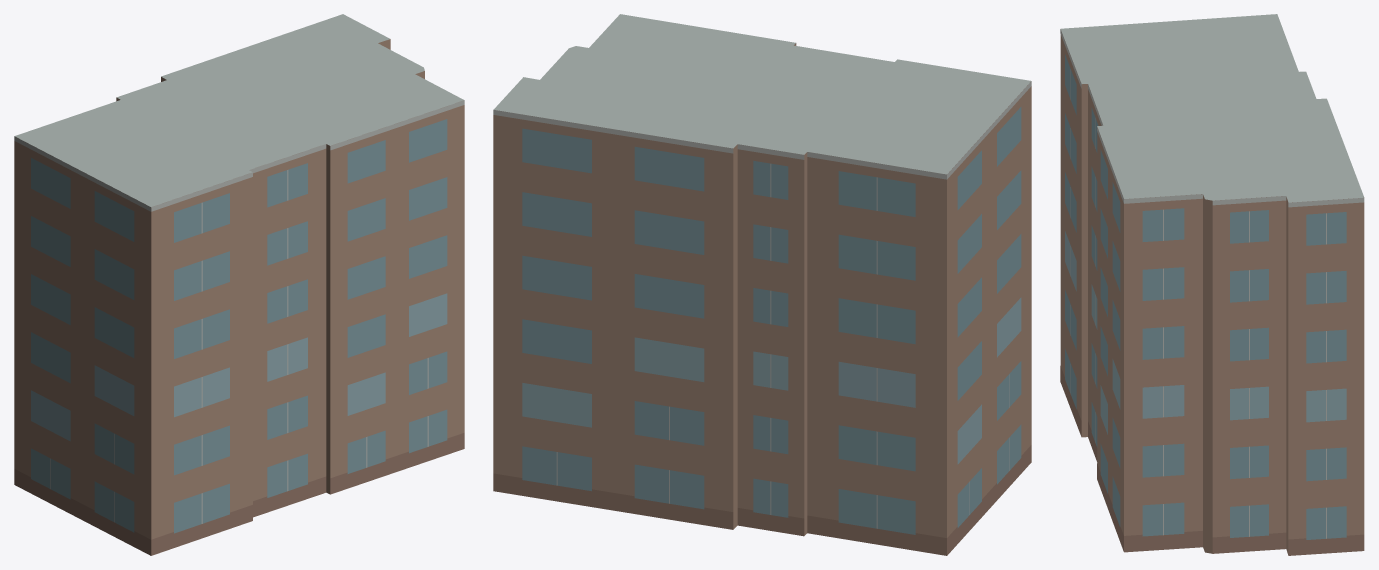
Rendered from survey-upis-32752058.glb.
3 views of the same model, side by side, from view 1: azimuth 30°, elevation 25°; view 2: azimuth 150°, elevation 25°; view 3: azimuth 270°, elevation 25° (orthographic). The views are drawn at different scales.
Visible parts, largest first — view 1: survey-upis-32752058.tmp; view 2: survey-upis-32752058.tmp; view 3: survey-upis-32752058.tmp.
Boxes of the visible parts, box(x1,y1,x2,y2) form: survey-upis-32752058.tmp: box(14, 14, 464, 555); survey-upis-32752058.tmp: box(493, 14, 1031, 555); survey-upis-32752058.tmp: box(1060, 14, 1364, 555).
Bounding box in the file's own units: 20.98 × 18.3 × 14.28.
